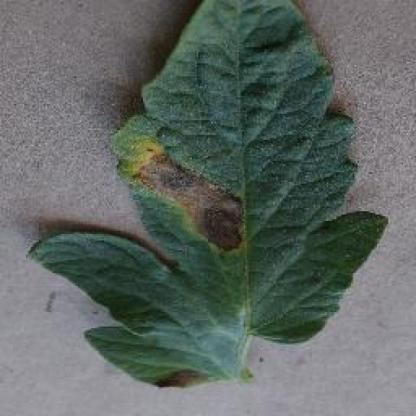Tomato_Blight: (27, 0, 386, 383)
